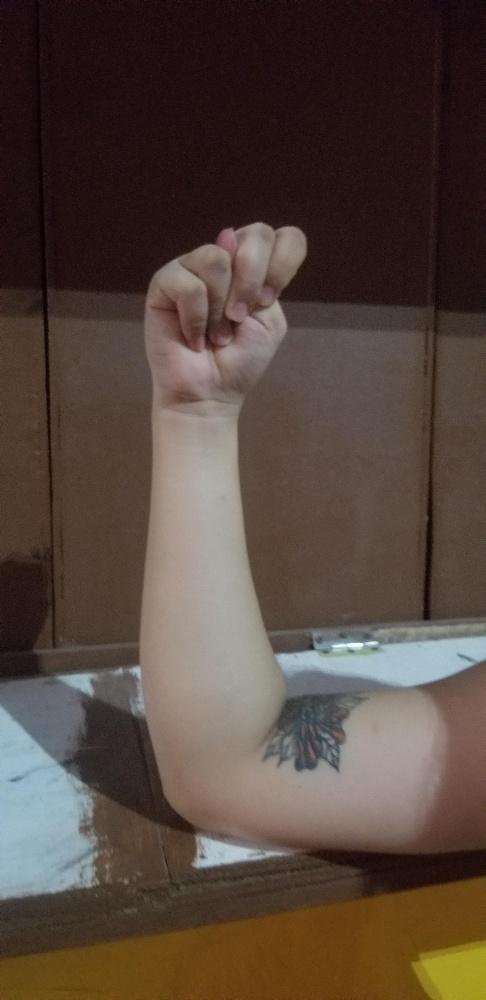n: (140, 220, 309, 401)
